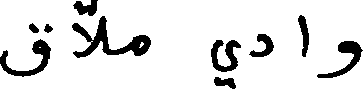ا: (297, 12, 309, 57)
د: (250, 31, 271, 57)
ق: (0, 21, 52, 77)
لا: (71, 16, 105, 58)
م: (131, 32, 150, 56)
و: (317, 38, 360, 77)
ي: (210, 37, 240, 87)
